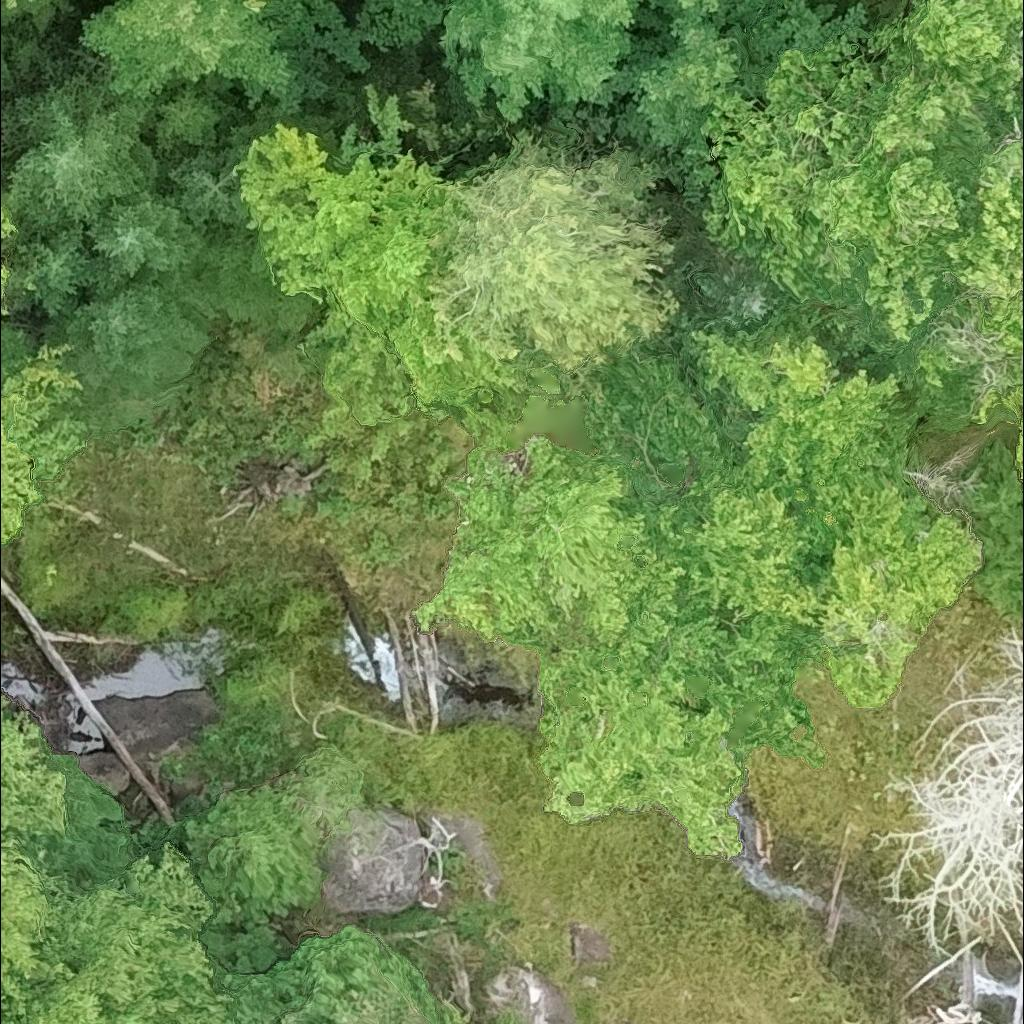crown: (455, 324, 968, 833), (702, 0, 1023, 483), (230, 122, 532, 410), (423, 125, 680, 372), (0, 838, 237, 1023), (0, 72, 162, 236), (436, 0, 647, 124), (77, 0, 308, 113), (0, 691, 79, 1010), (36, 280, 215, 395), (0, 327, 86, 550), (83, 190, 210, 297), (653, 248, 779, 332), (10, 220, 104, 318), (156, 141, 244, 226), (149, 80, 240, 158), (862, 0, 912, 30), (666, 0, 763, 15), (0, 190, 22, 248), (0, 2, 14, 89), (0, 255, 9, 314), (0, 0, 32, 12), (241, 0, 267, 13), (235, 1020, 238, 1023), (122, 0, 124, 1)
